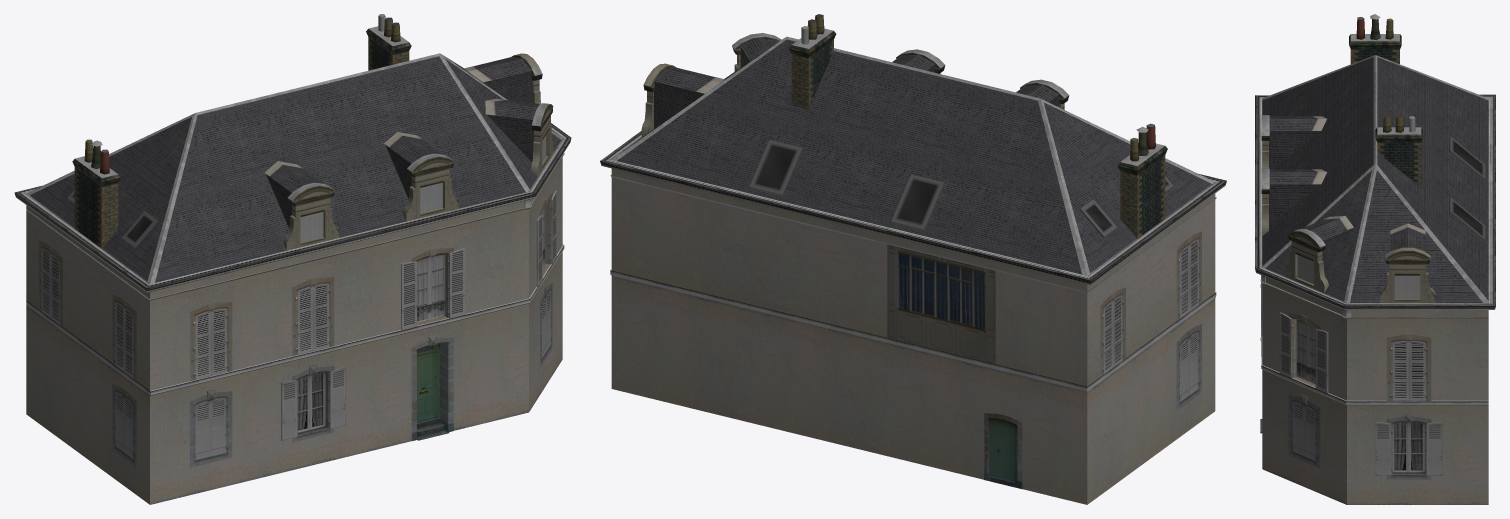
Rendered from le_mans_corner_house_1_b_france.glb.
3 renders of one model, left to right at view 1: azimuth 30°, elevation 25°; view 2: azimuth 150°, elevation 25°; view 3: azimuth 270°, elevation 25°, orthographic. The views are drawn at different scales.
Visible parts, largest first — view 1: building; view 2: building; view 3: building.
Boxes of the visible parts, bbox=[...] form: building: bbox=[14, 14, 571, 504]; building: bbox=[600, 14, 1226, 504]; building: bbox=[1255, 14, 1495, 504].
Size of the model in its own units: 15.49 by 11.07 by 7.46.
Materials: 1 (1 with a texture image).
